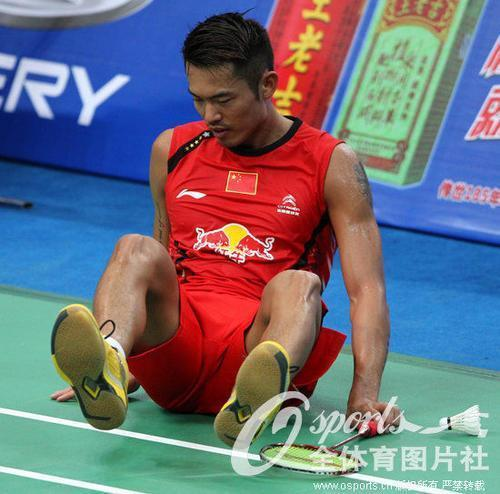Fall-Detected: (54, 0, 437, 456)
